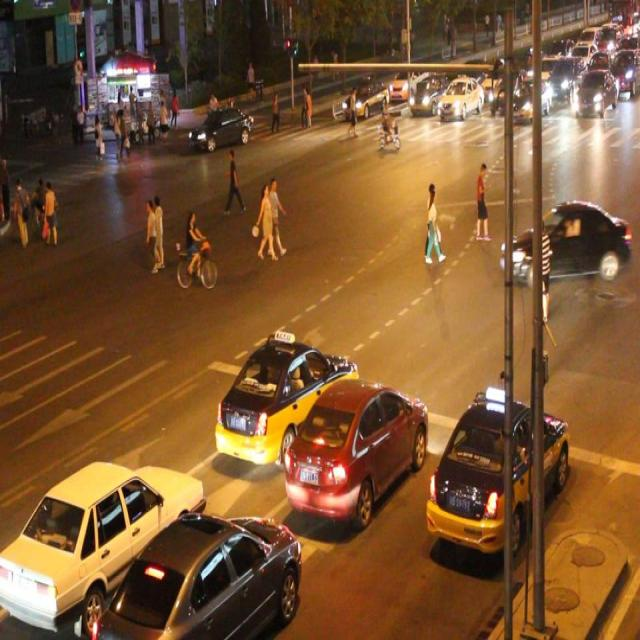car: (1, 457, 202, 627), (93, 512, 300, 640), (428, 396, 568, 552), (286, 377, 428, 524), (216, 335, 356, 467), (496, 193, 624, 285), (190, 104, 252, 150), (437, 75, 482, 118), (344, 75, 388, 117), (409, 72, 446, 115)
